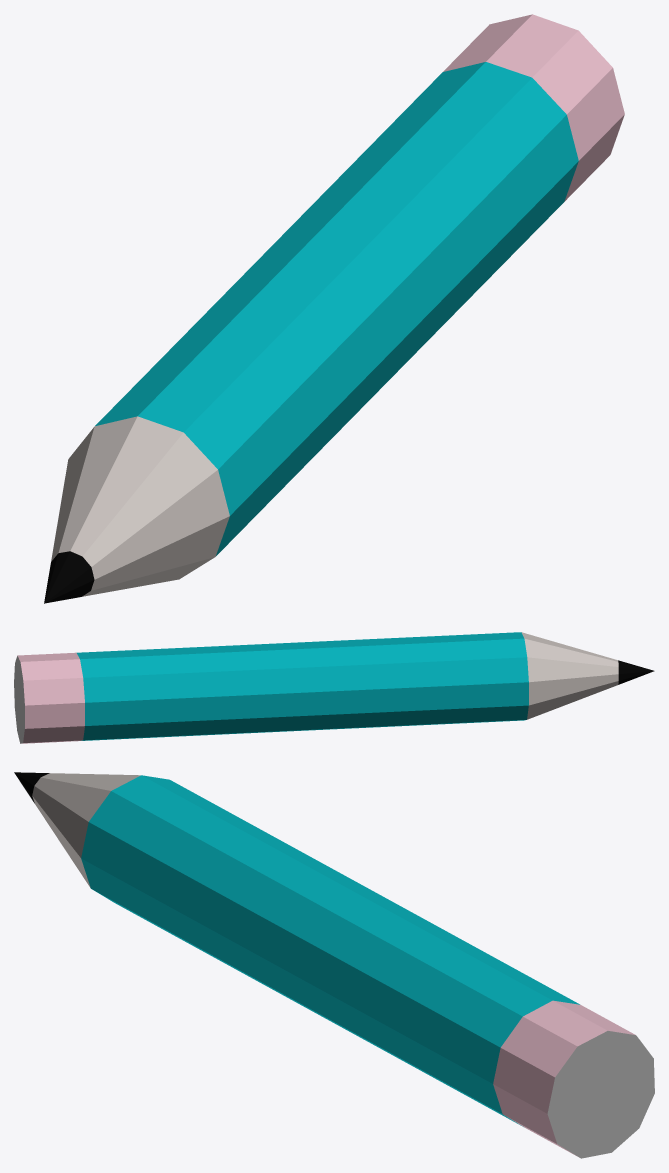
Rendered from SU_cyanpen (1).fbx.
3 views of the same model, one above another, from view 1: azimuth 30°, elevation 25°; view 2: azimuth 150°, elevation 25°; view 3: azimuth 270°, elevation 25° (orthographic). The views are drawn at different scales.
Visible parts, largest first — view 1: pasted__pCylinder4; view 2: pasted__pCylinder4; view 3: pasted__pCylinder4.
Boxes of the visible parts, x1=… form: pasted__pCylinder4: x1=44, y1=14, x2=624, y2=603; pasted__pCylinder4: x1=14, y1=632, x2=654, y2=743; pasted__pCylinder4: x1=14, y1=772, x2=654, y2=1158.
Size of the model in its own units: 0.6712 by 0.1156 by 0.5257.
